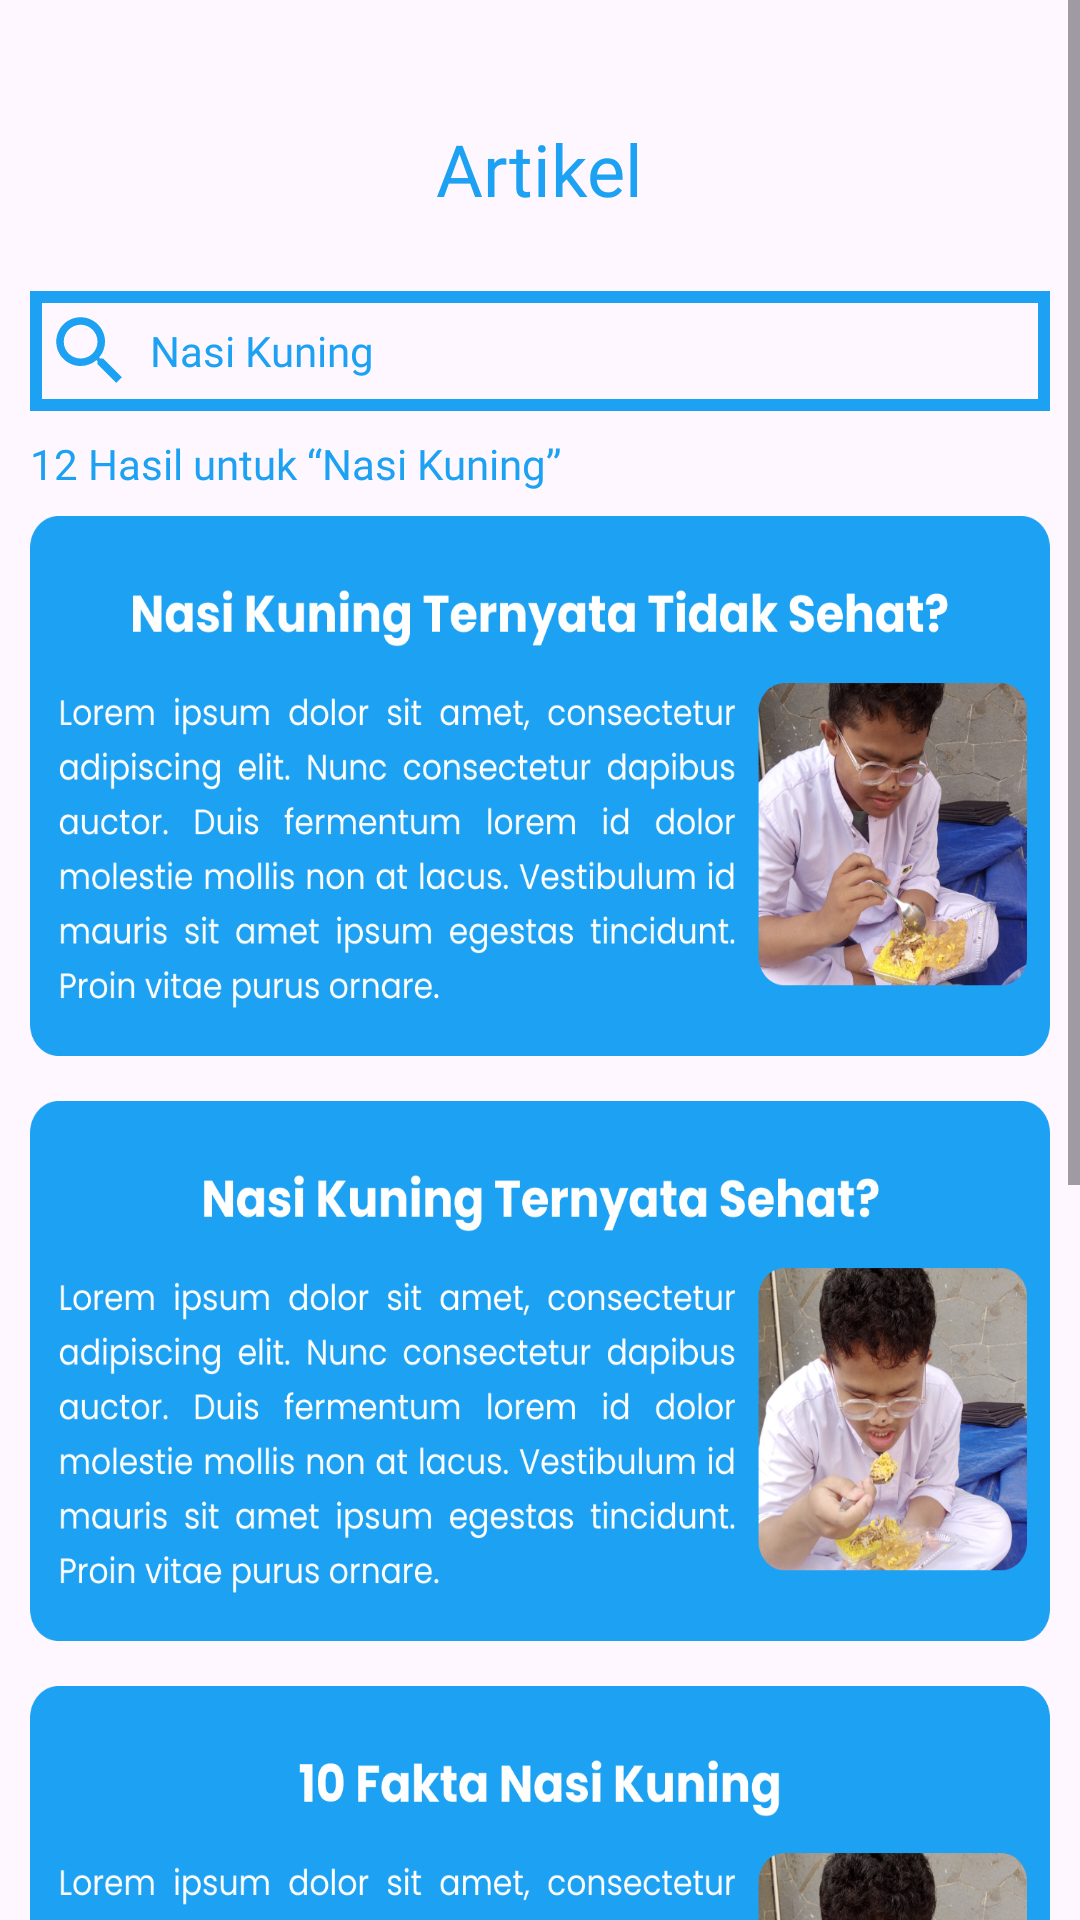

Point at icon controls on the screen. Image size 1080px x 1920px, points as (x=x, y=y).
search: (x=89, y=350)
